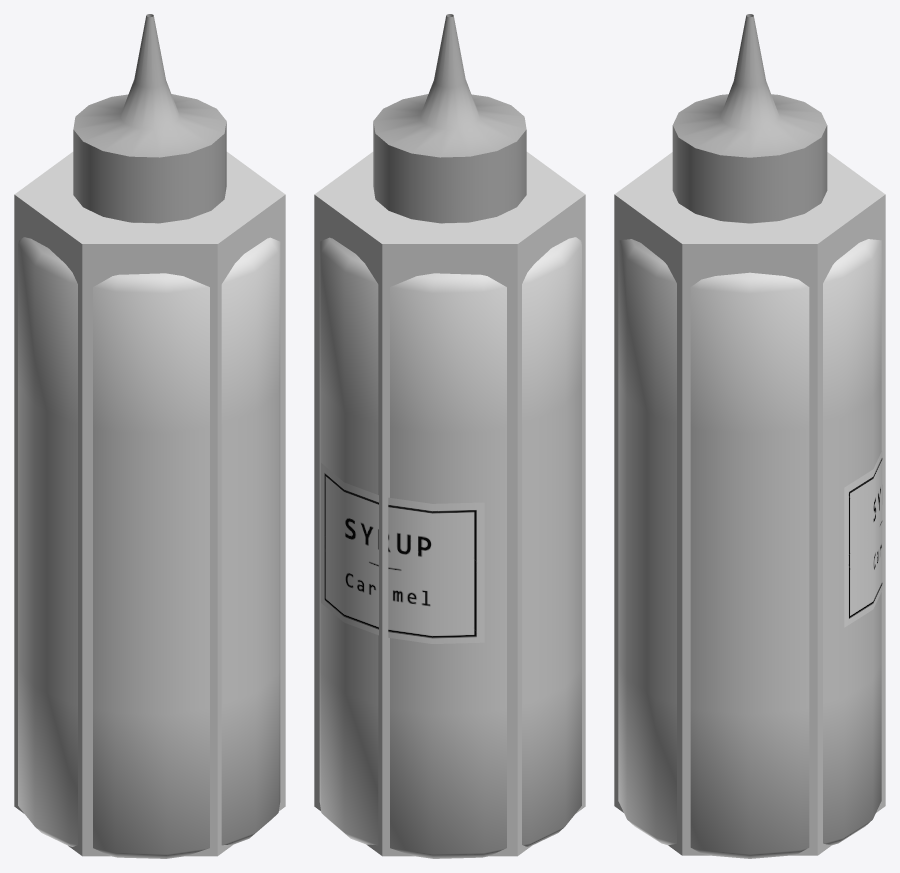
File: Syrup_Caramel.fbx
3 renders of one model, left to right at view 1: azimuth 30°, elevation 25°; view 2: azimuth 150°, elevation 25°; view 3: azimuth 270°, elevation 25°, orthographic.
Parts seen in each view (by area): view 1: Syrup, Colision_Syrup; view 2: Syrup, Colision_Syrup; view 3: Syrup, Colision_Syrup.
Part boxes in pixels (x1,y1,x2,y2): Syrup: (18,14,280,858); Colision_Syrup: (14,152,285,856); Syrup: (319,14,581,858); Colision_Syrup: (314,152,585,856); Syrup: (618,14,882,858); Colision_Syrup: (614,152,885,855).
Bounding box in the file's own units: 0.0711 × 0.0724 × 0.233.
